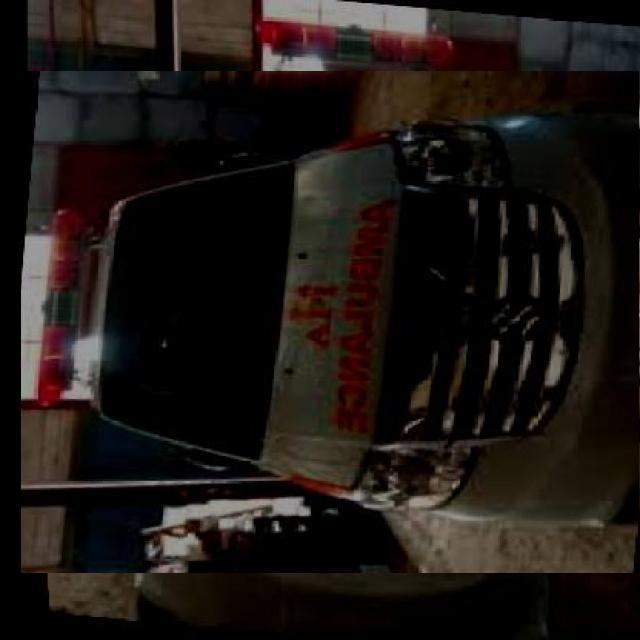emergency-vehicle: (55, 37, 624, 607)
